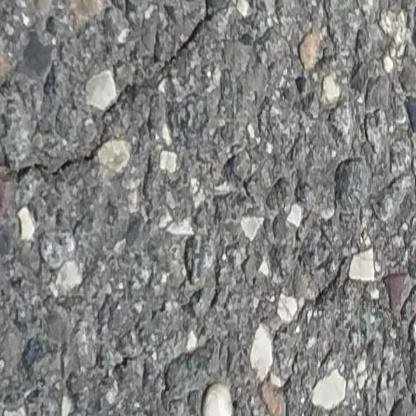Cracks: (0, 76, 154, 226), (158, 0, 225, 72)
